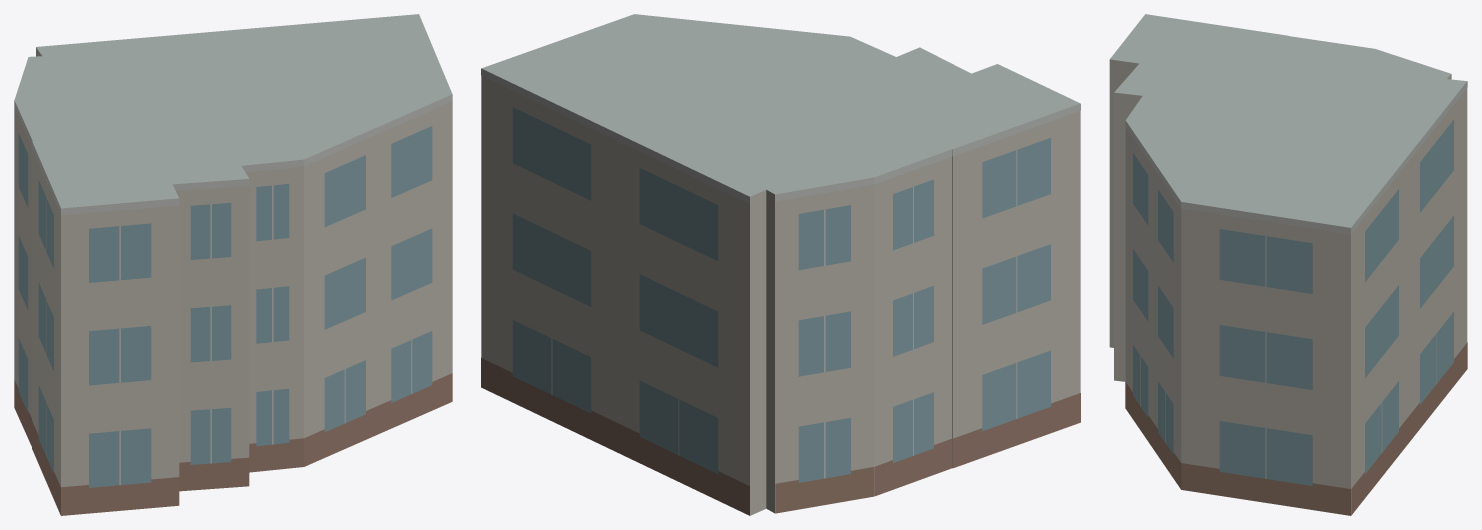
File: survey-upis-32492251.glb
3 views of the same model, side by side, from view 1: azimuth 30°, elevation 25°; view 2: azimuth 150°, elevation 25°; view 3: azimuth 270°, elevation 25° (orthographic). The views are drawn at different scales.
Parts seen in each view (by area): view 1: survey-upis-32492251.tmp; view 2: survey-upis-32492251.tmp; view 3: survey-upis-32492251.tmp.
Boxes of the visible parts, x1,y1,x2,y2 form: survey-upis-32492251.tmp: (14,14,452,515); survey-upis-32492251.tmp: (481,14,1080,515); survey-upis-32492251.tmp: (1109,14,1467,515).
Bounding box in the file's own units: 17.21 × 10.8 × 12.17.
